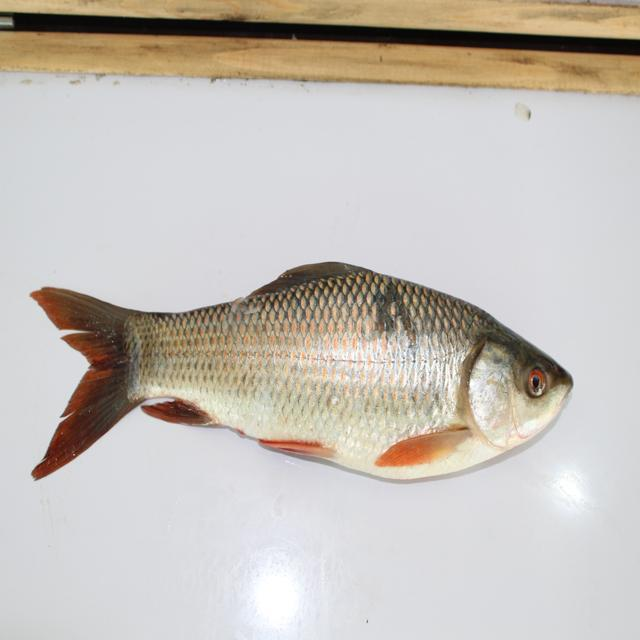Rohu: (31, 259, 576, 495)
